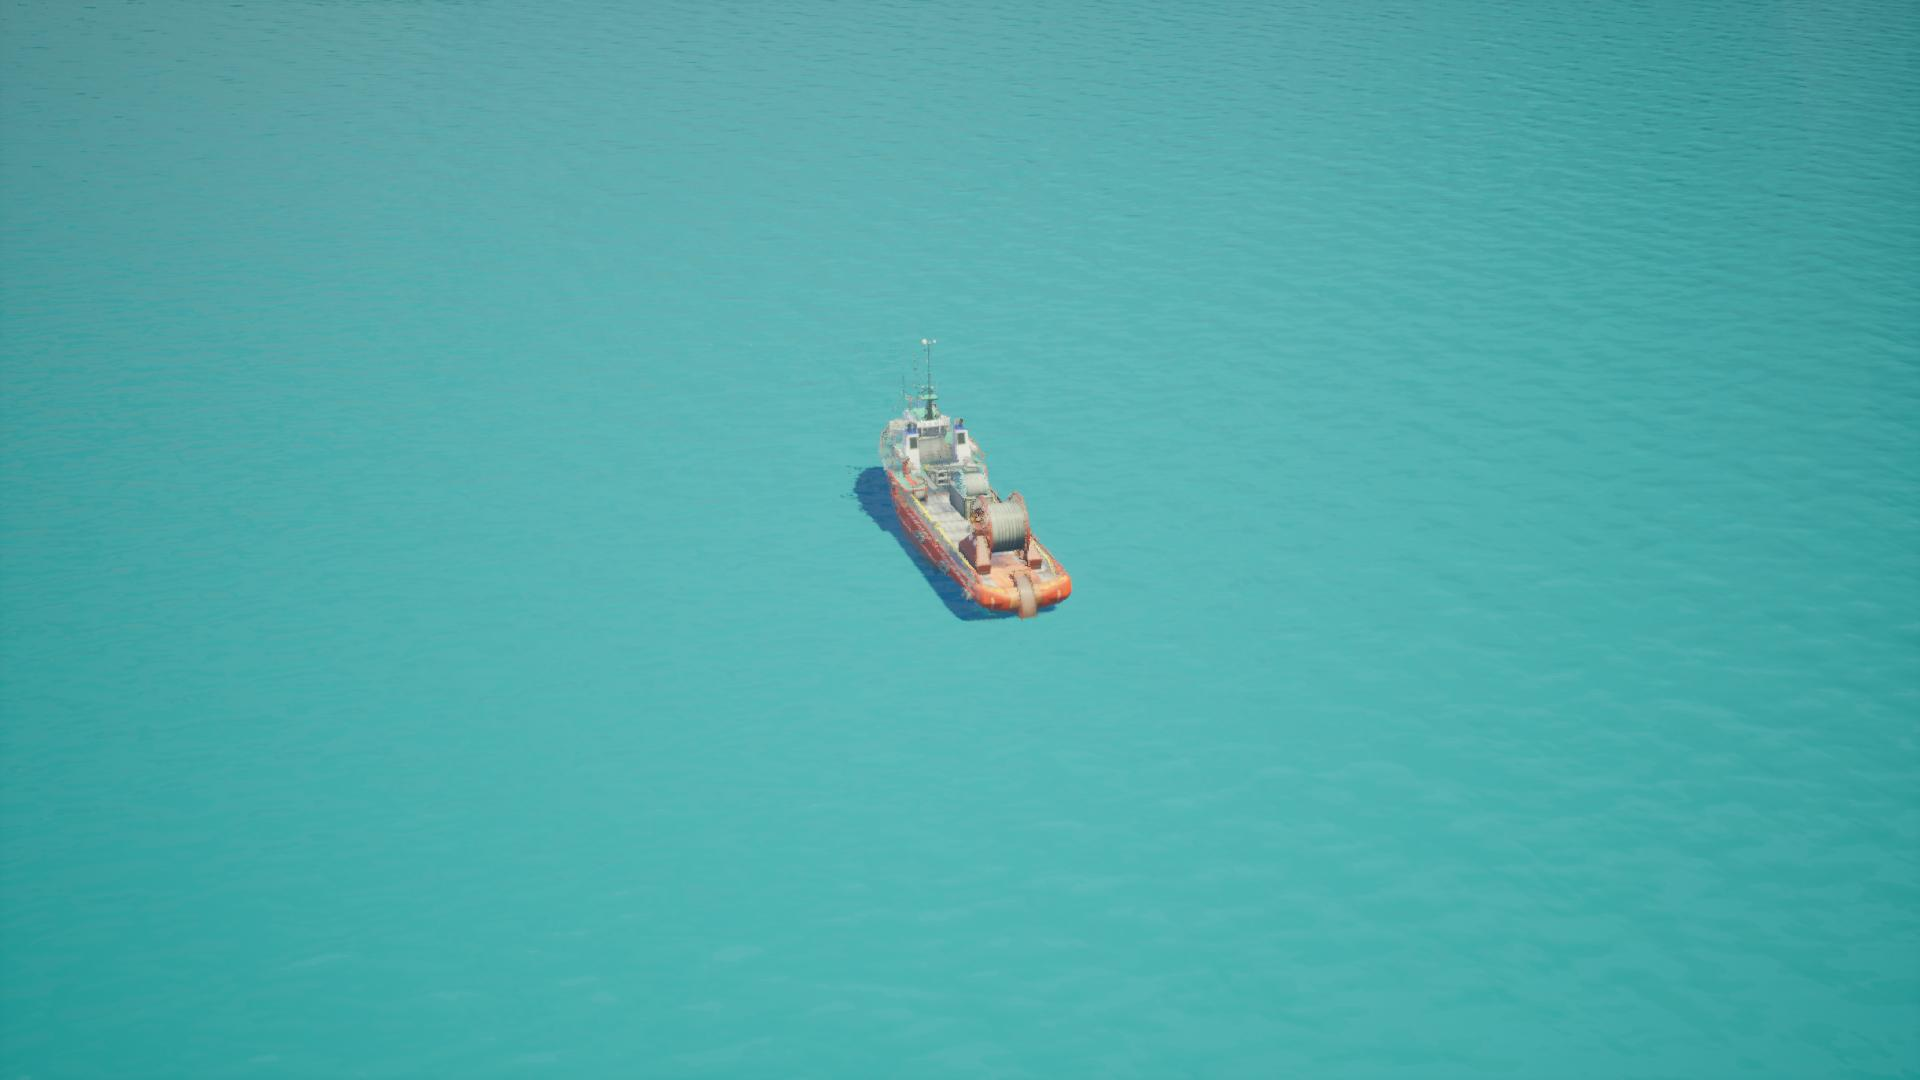Tug Boat: (853, 339, 1040, 622)
